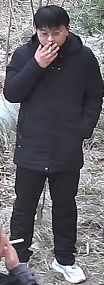smoking: (29, 28, 69, 86)
